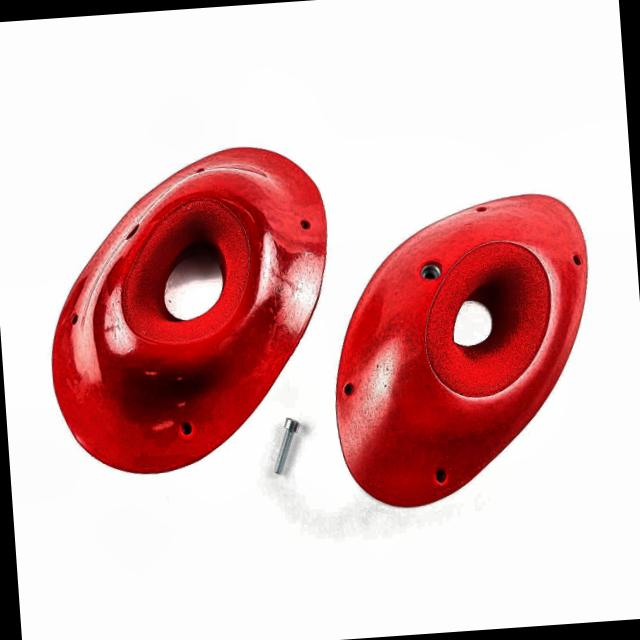Hold: (37, 139, 346, 483), (326, 184, 605, 510)
